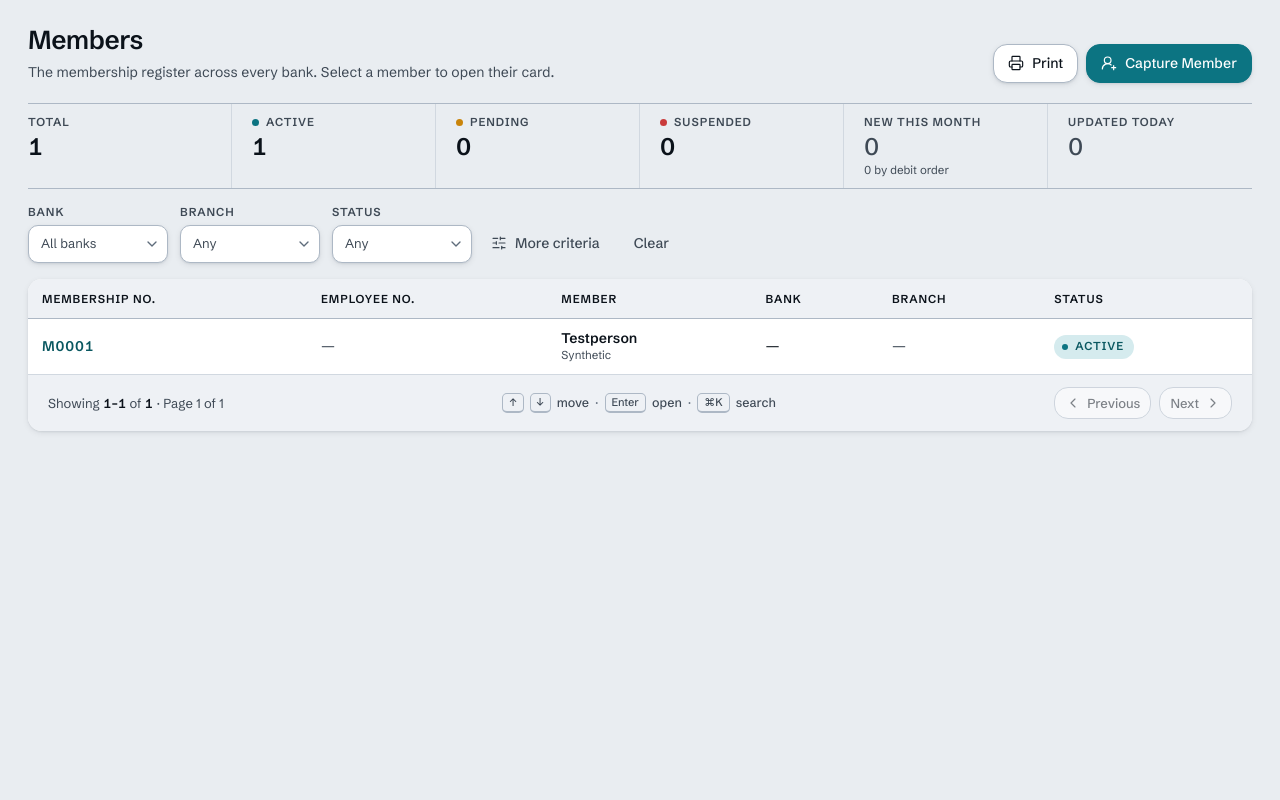
Test: editing: only the questions the stakeholder asked, nested as they said › none of the removed questions is still on the tab
Click the button named "open the record for" at (68, 346), box left=42, top=336, right=94, bottom=357
(page scrolled)
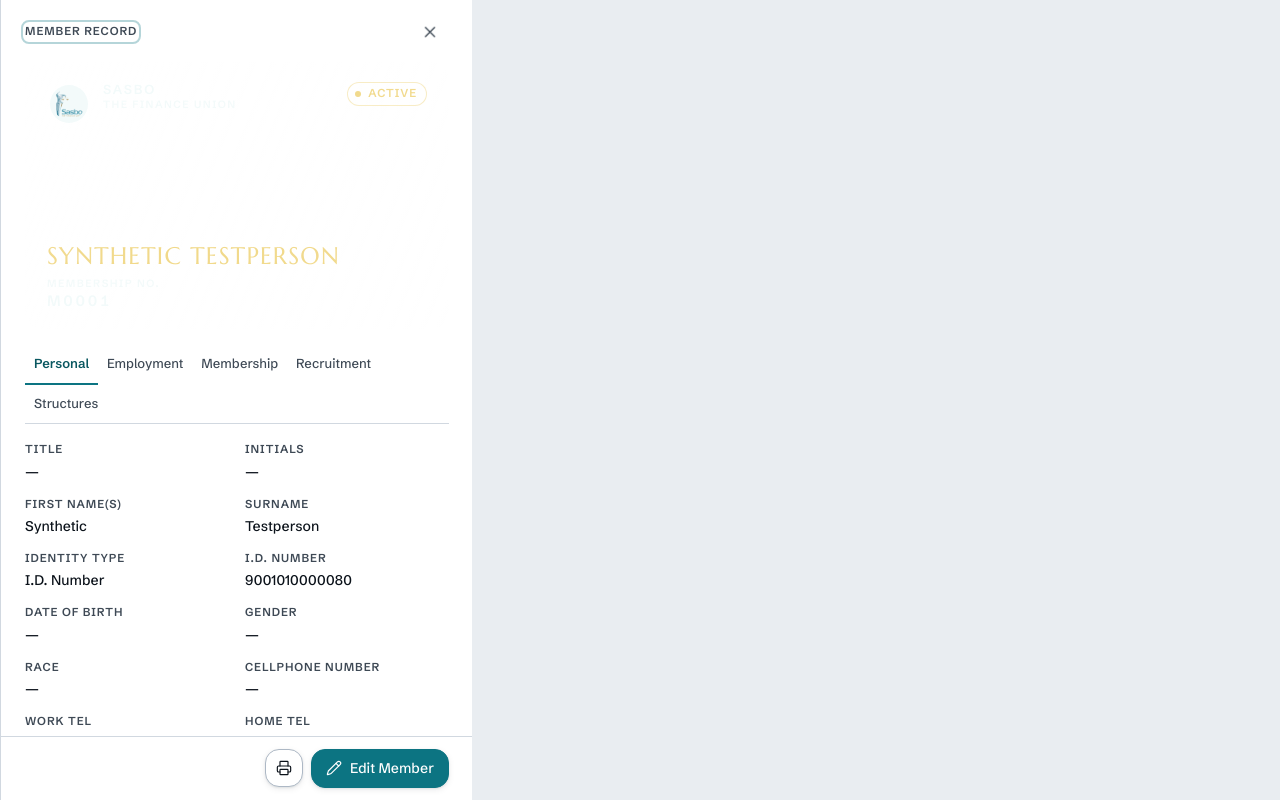
Click the button "Edit Member" at (380, 768), box left=311, top=749, right=449, bottom=788
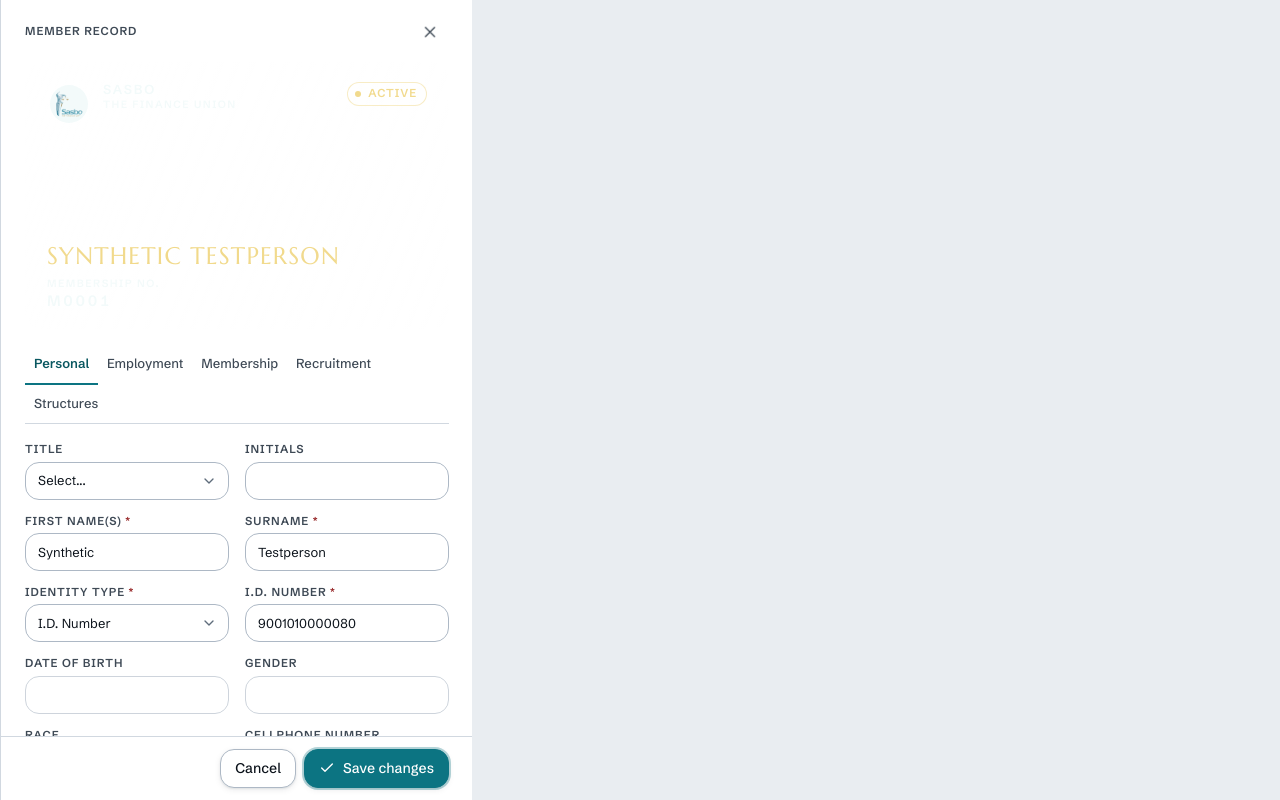
Click the button named "Sasbo Structures" at (66, 405), box left=25, top=385, right=107, bottom=424
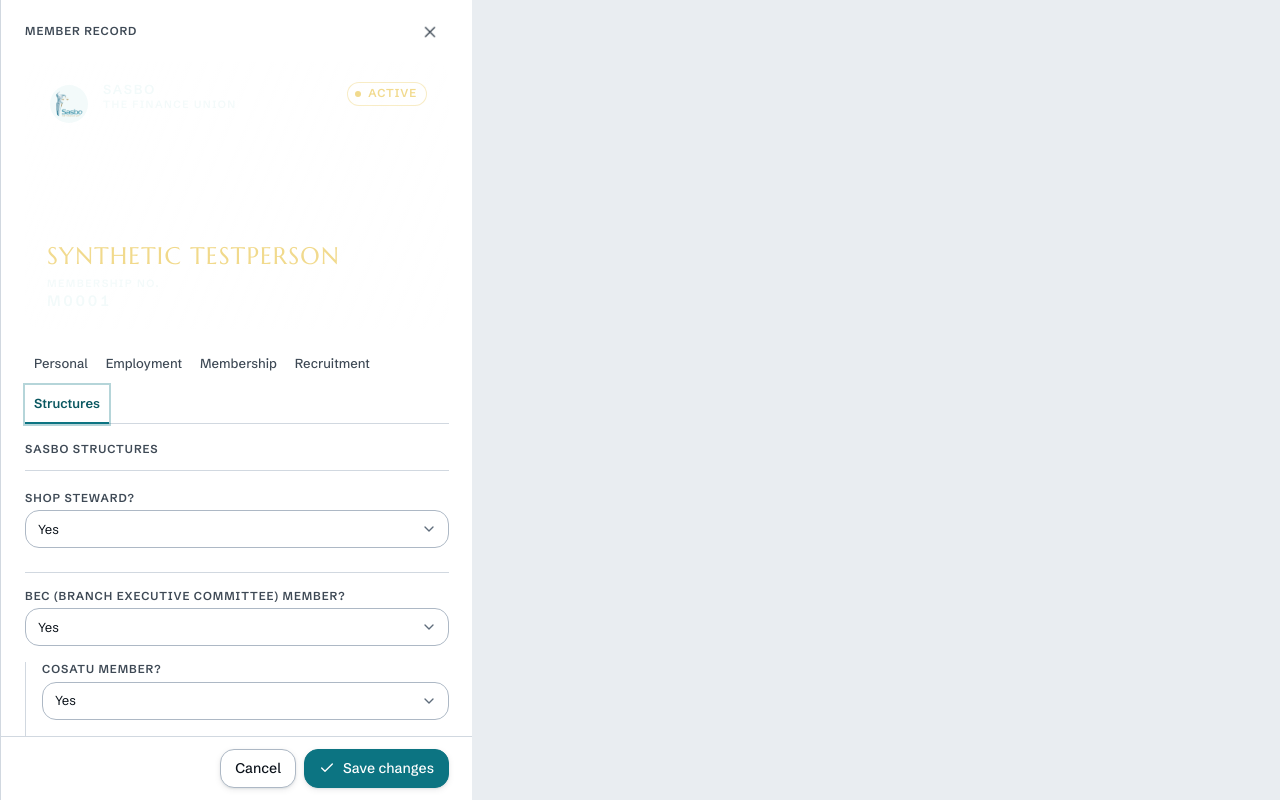
Now the dropdown labelled "COSATU Member?" is shown, box left=42, top=682, right=449, bottom=720
